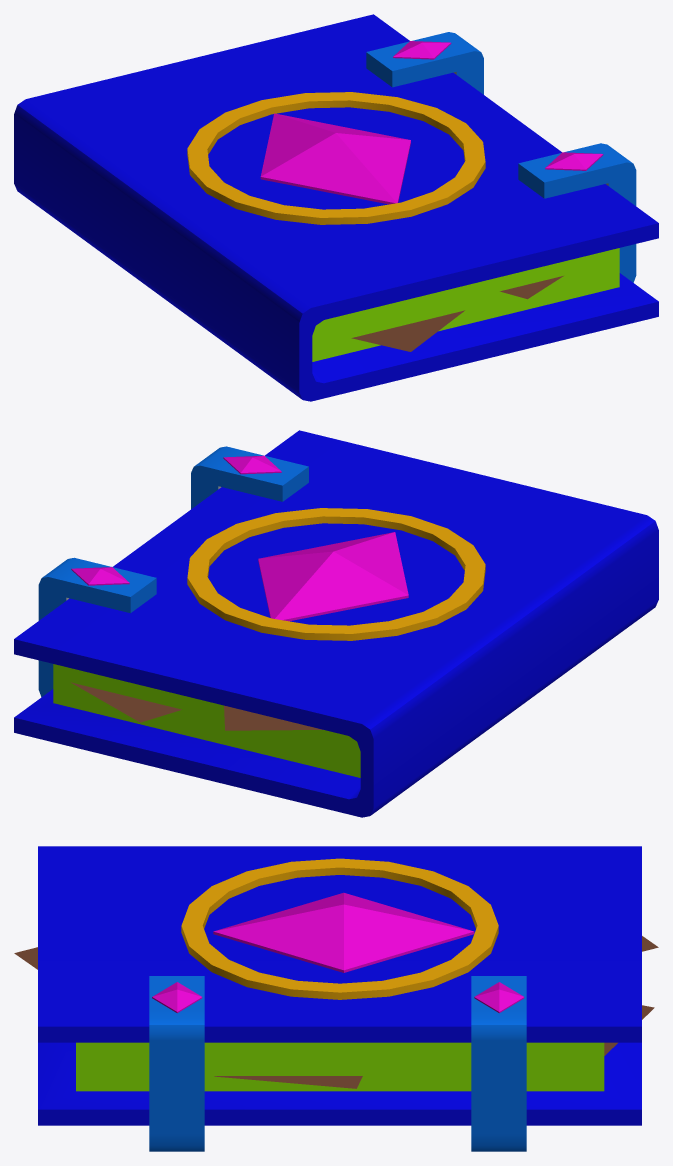
Rendered from MOD_Book.fbx.
3 views of the same model, one above another, from view 1: azimuth 30°, elevation 25°; view 2: azimuth 150°, elevation 25°; view 3: azimuth 270°, elevation 25° (orthographic). The views are drawn at different scales.
Parts seen in each view (by area): view 1: polySurface446; view 2: polySurface446; view 3: polySurface446.
Part boxes in pixels (box(x1,y1,x2,y2)): polySurface446: box(14, 14, 658, 401); polySurface446: box(14, 430, 658, 817); polySurface446: box(14, 846, 658, 1151).
Bounding box in the file's own units: 98.09 × 32.74 × 133.
